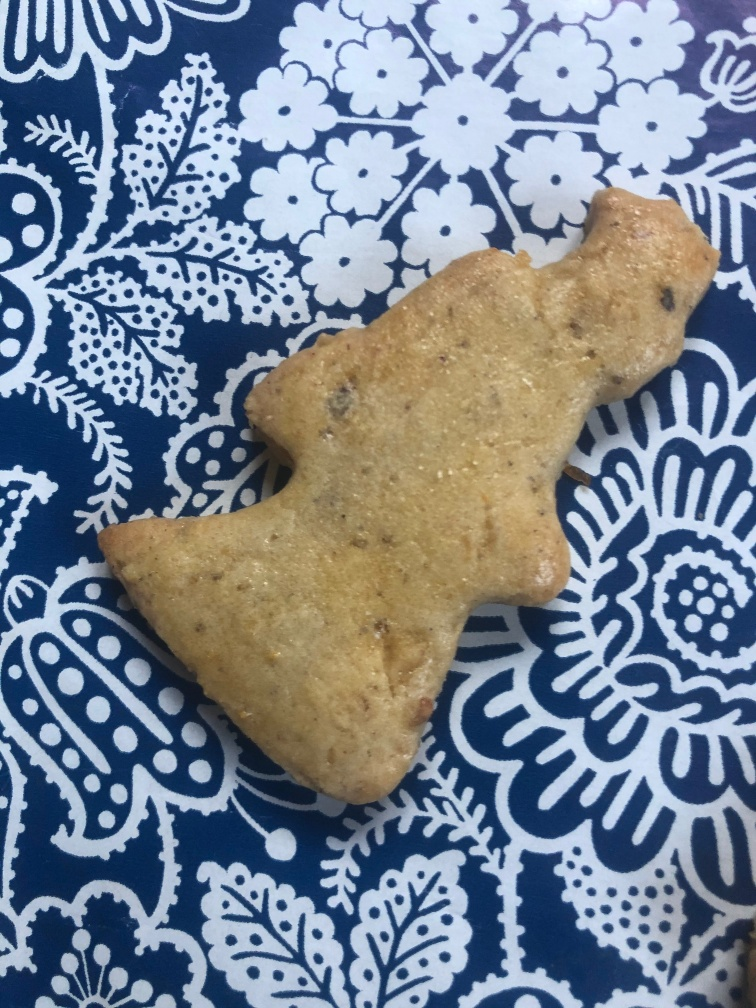king mage: (92, 182, 722, 846)
